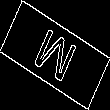M_SW: (29, 22, 81, 88)
